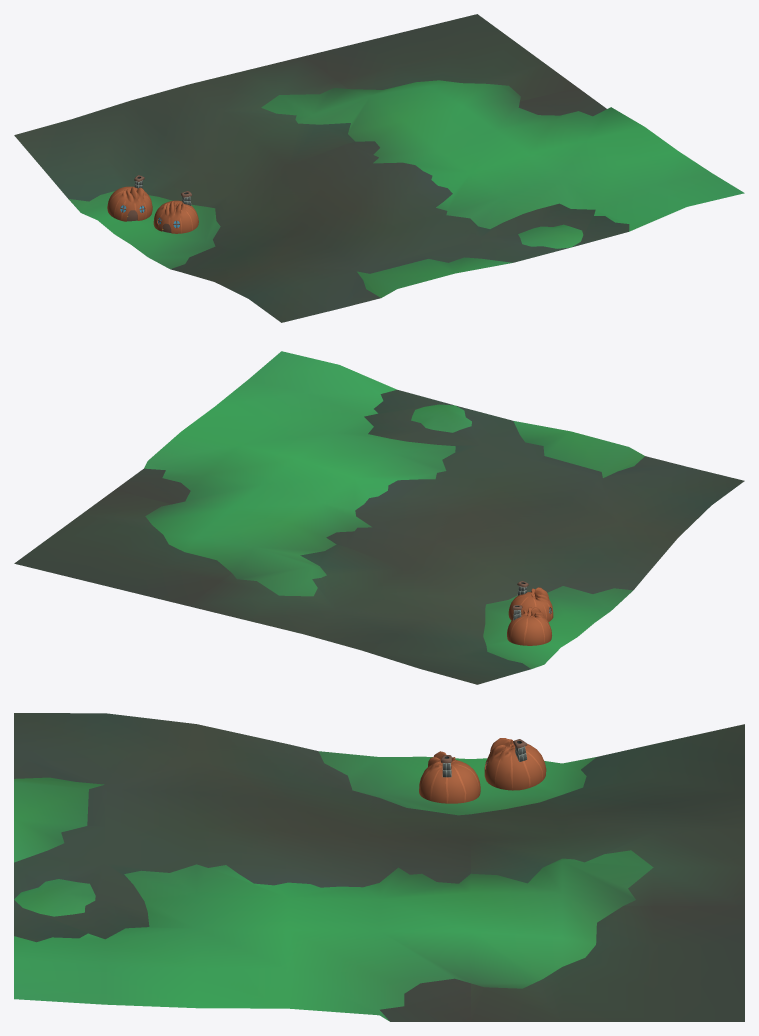
The model's file is LevelA3.fbx.
The picture shows the model from 3 angles, top to bottom: view 1: azimuth 30°, elevation 25°; view 2: azimuth 150°, elevation 25°; view 3: azimuth 270°, elevation 25°; orthographic projection. The views are drawn at different scales.
Visible parts, largest first — view 1: GroundA3, OniHouse.008, OniHouse.006; view 2: GroundA3, OniHouse.008, OniHouse.006; view 3: GroundA3, OniHouse.008, OniHouse.006.
Boxes of the visible parts, box(x1,y1,x2,y2) form: GroundA3: box(14, 14, 744, 322); OniHouse.008: box(107, 175, 152, 221); OniHouse.006: box(153, 191, 198, 233); GroundA3: box(14, 351, 744, 684); OniHouse.008: box(507, 605, 551, 645); OniHouse.006: box(508, 581, 553, 621); GroundA3: box(14, 713, 744, 1021); OniHouse.008: box(484, 738, 546, 790); OniHouse.006: box(419, 751, 480, 803).
Size of the model in its own units: 9057 by 1009 by 9057.
